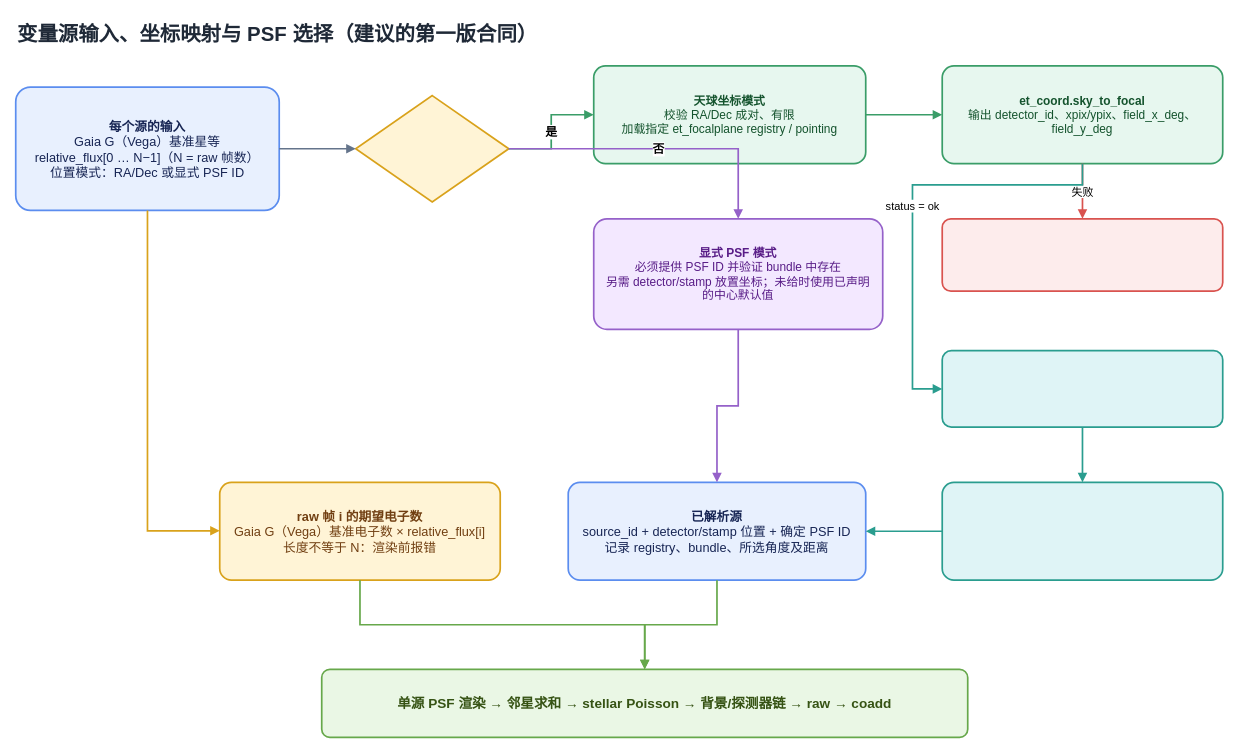
Image size: 1238x752. Some labels were removed from this diagram. Each missing label, with the centre of its shape:
Photsim7 nearest policy 选择 |源视场半径 − PSF 采样角| 最小的 field ID 平局时选择较小 ID: the point at 1082,531
status ≠ ok / 不在视场内 立即报错，不外推到最近探测器: the point at 1082,255
提供了完整的 RA + Dec？: the point at 431,148
视场半径 field_angle_deg = hypot(field_x_deg, field_y_deg): the point at 1082,388
